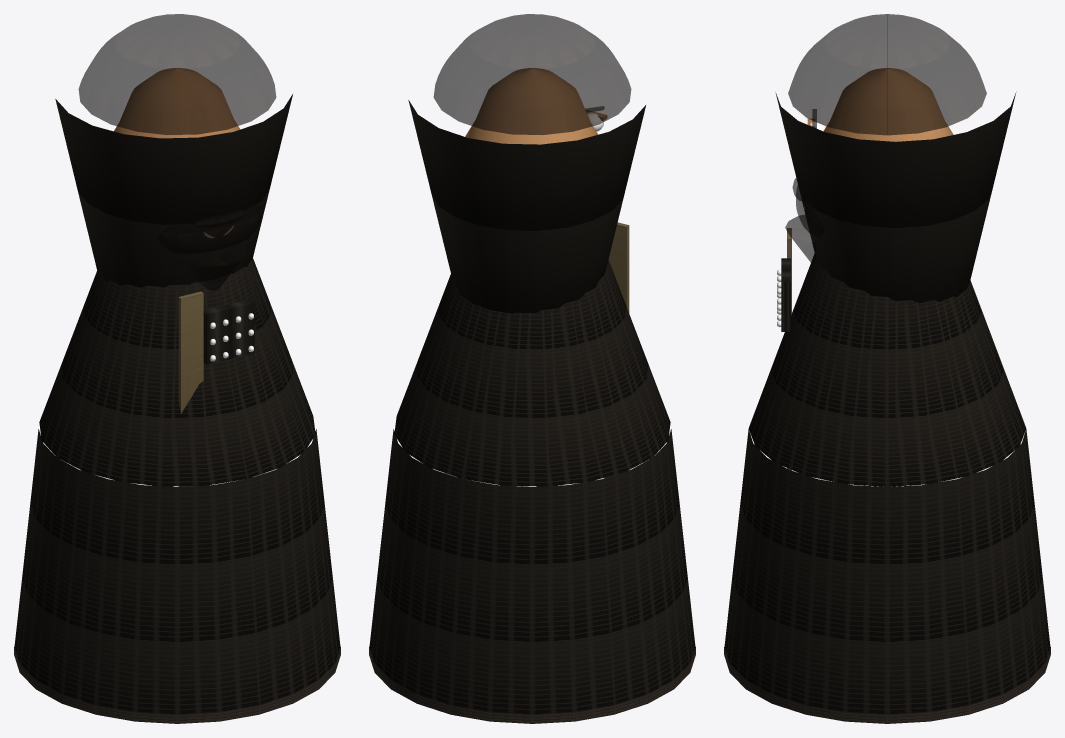
Rendered from secret_visit.glb.
3 views of the same model, side by side, from view 1: azimuth 30°, elevation 25°; view 2: azimuth 150°, elevation 25°; view 3: azimuth 270°, elevation 25° (orthographic).
Visible parts, largest first — view 1: Character_secret_visitor, head; view 2: Character_secret_visitor, head; view 3: Character_secret_visitor, head.
Boxes of the visible parts, x1=… form: Character_secret_visitor: x1=14, y1=14, x2=340, y2=723; head: x1=114, y1=68, x2=240, y2=138; Character_secret_visitor: x1=369, y1=14, x2=695, y2=723; head: x1=465, y1=68, x2=597, y2=144; Character_secret_visitor: x1=724, y1=14, x2=1050, y2=723; head: x1=823, y1=68, x2=953, y2=141.
Bounding box in the file's own units: 0.8443 × 1.8 × 0.8443.
Materials: 13 (8 with a texture image).
